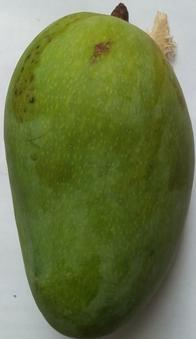Unripe: (1, 1, 196, 339)
